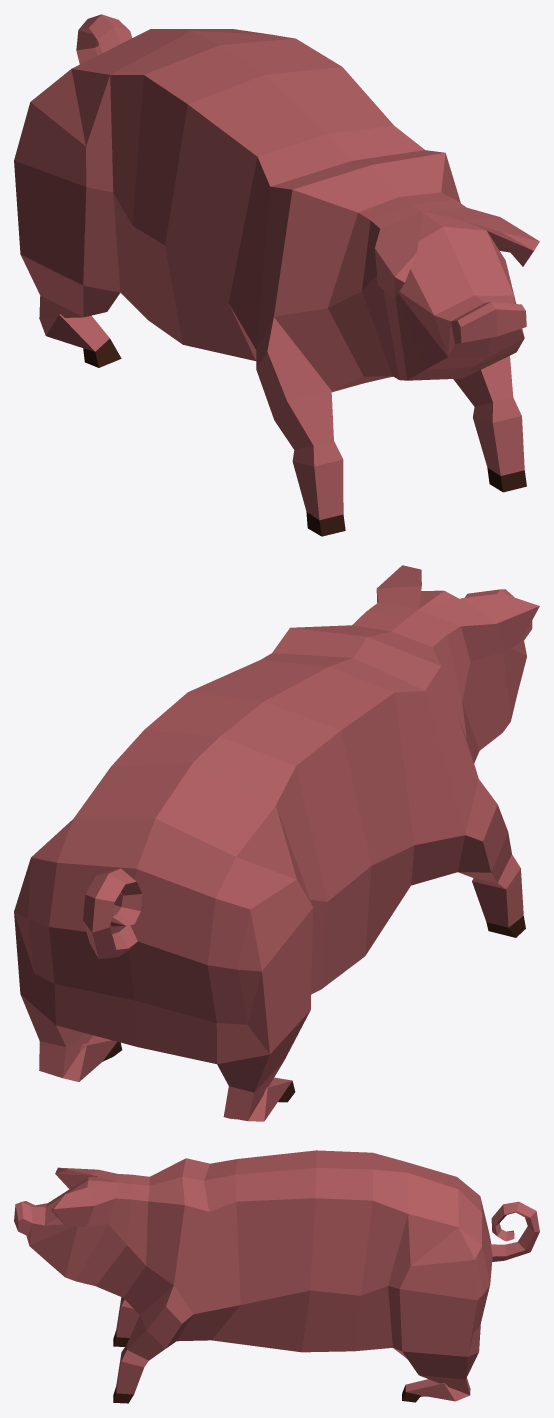
The model's file is Pig_000006.obj.
3 renders of one model, top to bottom at view 1: azimuth 30°, elevation 25°; view 2: azimuth 150°, elevation 25°; view 3: azimuth 270°, elevation 25°, orthographic. The views are drawn at different scales.
Visible parts, largest first — view 1: Pig_Cylinder; view 2: Pig_Cylinder; view 3: Pig_Cylinder.
Part boxes in pixels (x1,y1,x2,y2): Pig_Cylinder: [14, 14, 539, 536]; Pig_Cylinder: [14, 565, 539, 1121]; Pig_Cylinder: [14, 1150, 539, 1403].
Bounding box in the file's own units: 3.32 × 4.09 × 9.52.
